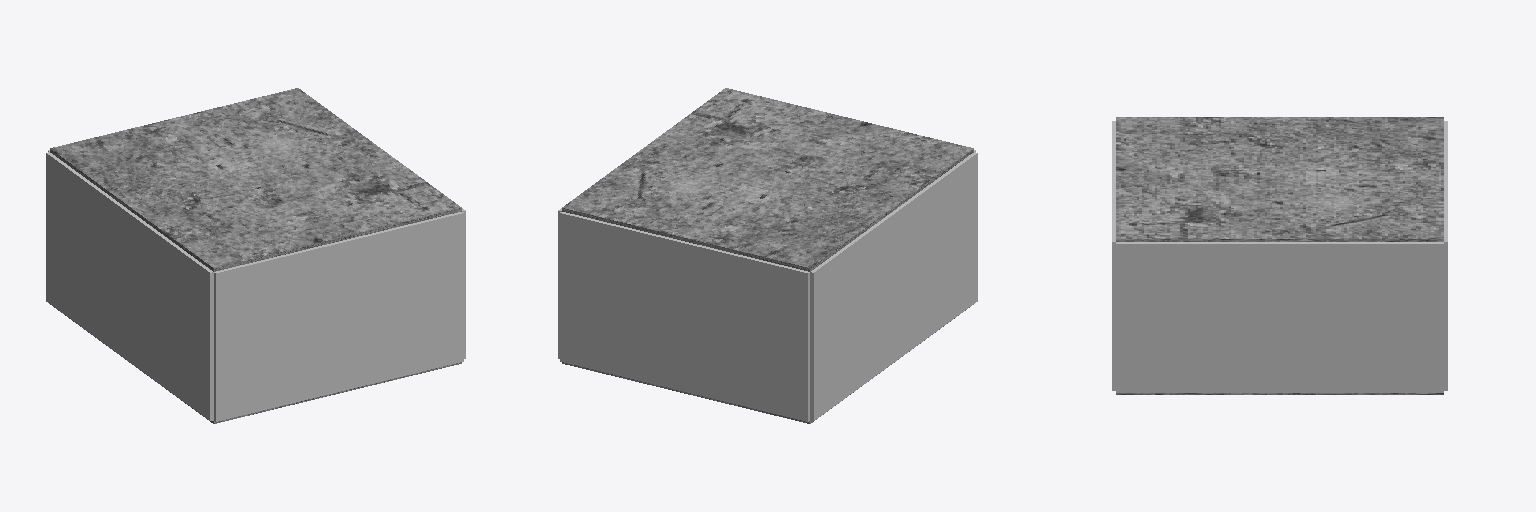
The picture shows the model from 3 angles: view 1: azimuth 30°, elevation 25°; view 2: azimuth 150°, elevation 25°; view 3: azimuth 270°, elevation 25°; orthographic projection.
Parts seen in each view (by area): view 1: Cube.001, Cube.004, Cube.002; view 2: Cube.001, Cube.005, Cube.002; view 3: Cube.003, Cube.001, Cube.004, Cube.005, Cube.
Boxes of the visible parts, x1,y1,x2,y2 form: Cube.001: [50, 88, 461, 271]; Cube.004: [214, 212, 463, 421]; Cube.002: [46, 152, 213, 420]; Cube.001: [562, 88, 973, 271]; Cube.005: [560, 212, 809, 421]; Cube.002: [810, 152, 977, 420]; Cube.003: [1116, 242, 1443, 392]; Cube.001: [1116, 117, 1443, 241]; Cube.004: [1112, 121, 1115, 390]; Cube.005: [1444, 121, 1447, 390]; Cube: [1116, 393, 1443, 394].
Size of the model in its own units: 36 by 21 by 41.
Materials: 2 (1 with a texture image).